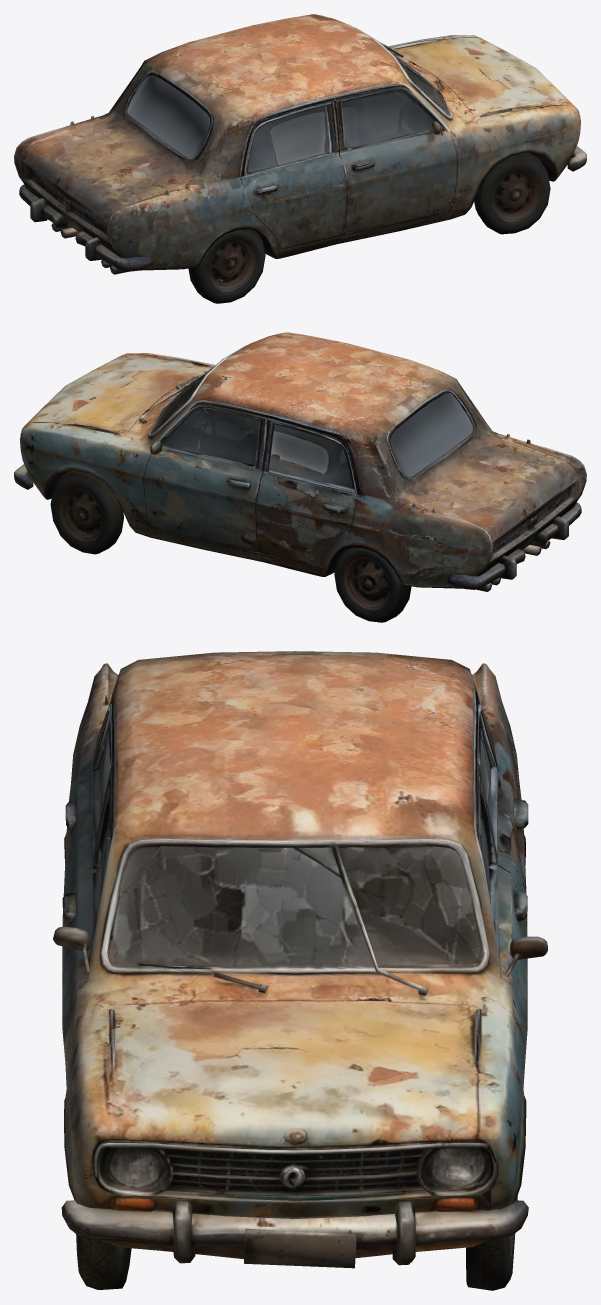
The model's file is vehicle-sedan.glb.
3 views of the same model, one above another, from view 1: azimuth 30°, elevation 25°; view 2: azimuth 150°, elevation 25°; view 3: azimuth 270°, elevation 25° (orthographic). The views are drawn at different scales.
Parts seen in each view (by area): view 1: vehicle-sedan; view 2: vehicle-sedan; view 3: vehicle-sedan.
Part boxes in pixels (bbox=[...]): vehicle-sedan: bbox=[14, 14, 586, 303]; vehicle-sedan: bbox=[14, 332, 586, 622]; vehicle-sedan: bbox=[53, 651, 547, 1290].
Bounding box in the file's own units: 0.9995 × 0.3755 × 0.4419.
1 material, 1 textured.
